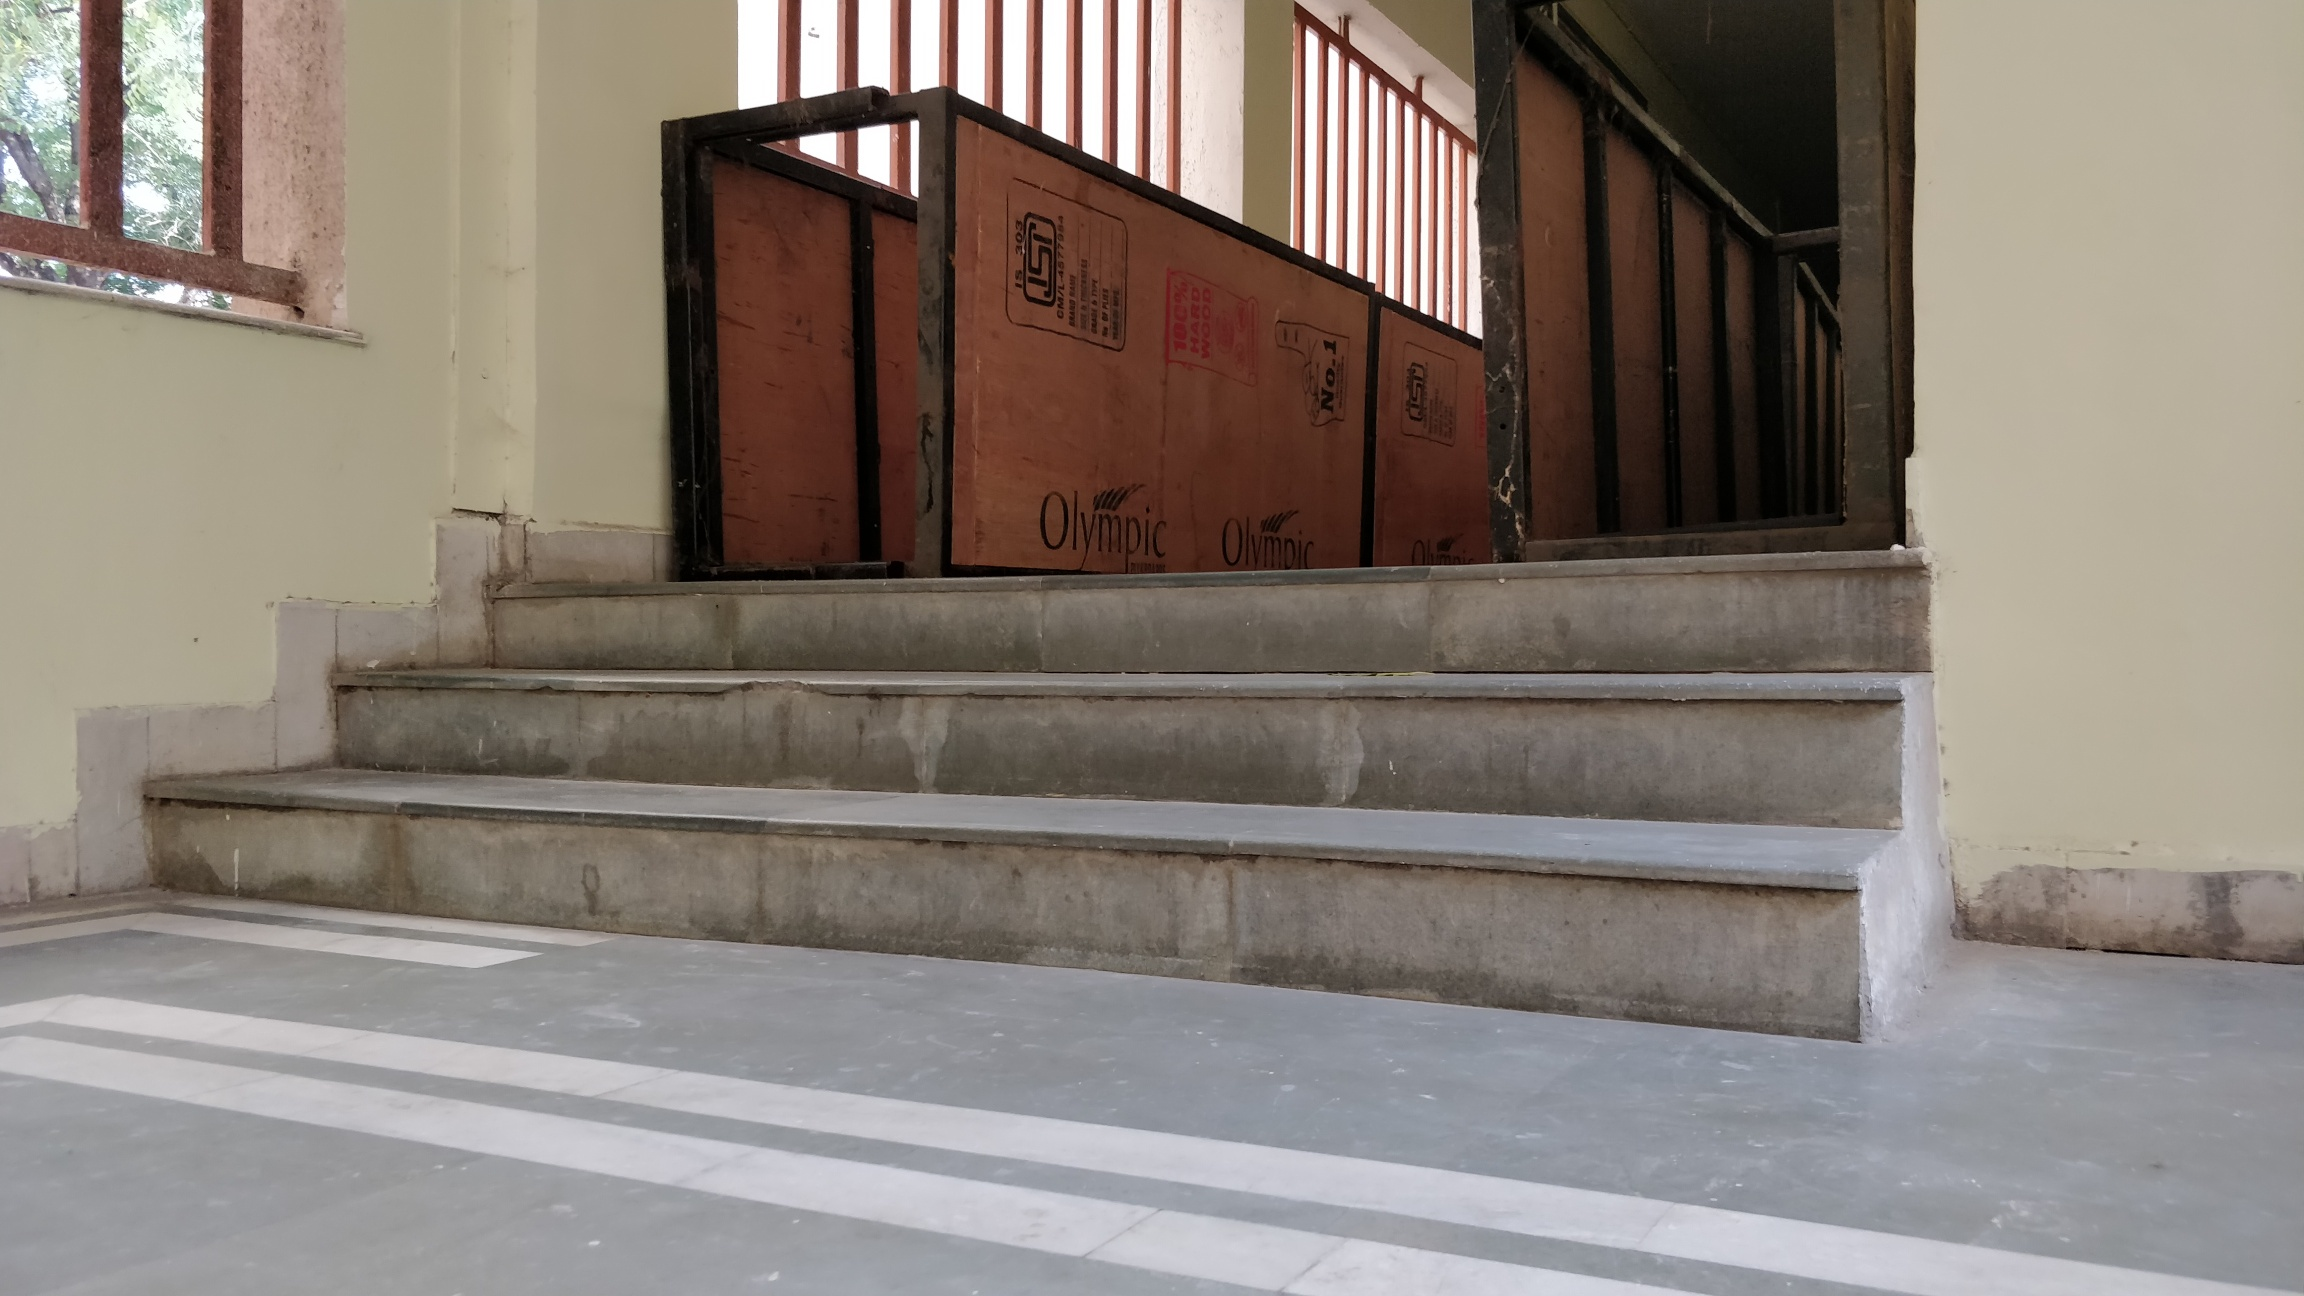stairs_up: (130, 530, 1919, 984)
